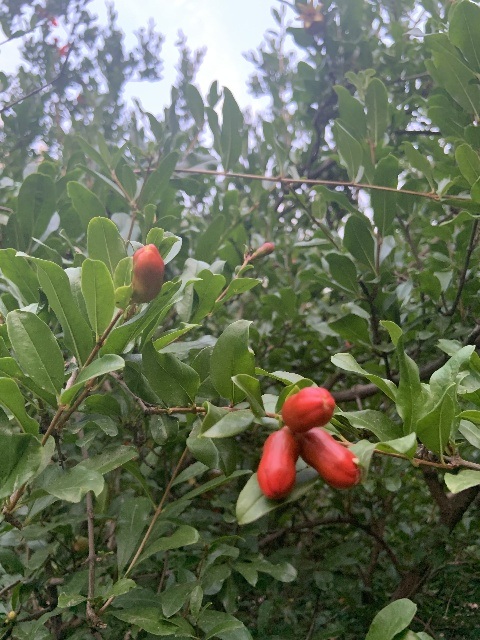bud: (297, 429, 359, 490), (256, 427, 299, 501), (281, 386, 336, 433), (131, 243, 164, 302), (253, 242, 274, 258)
